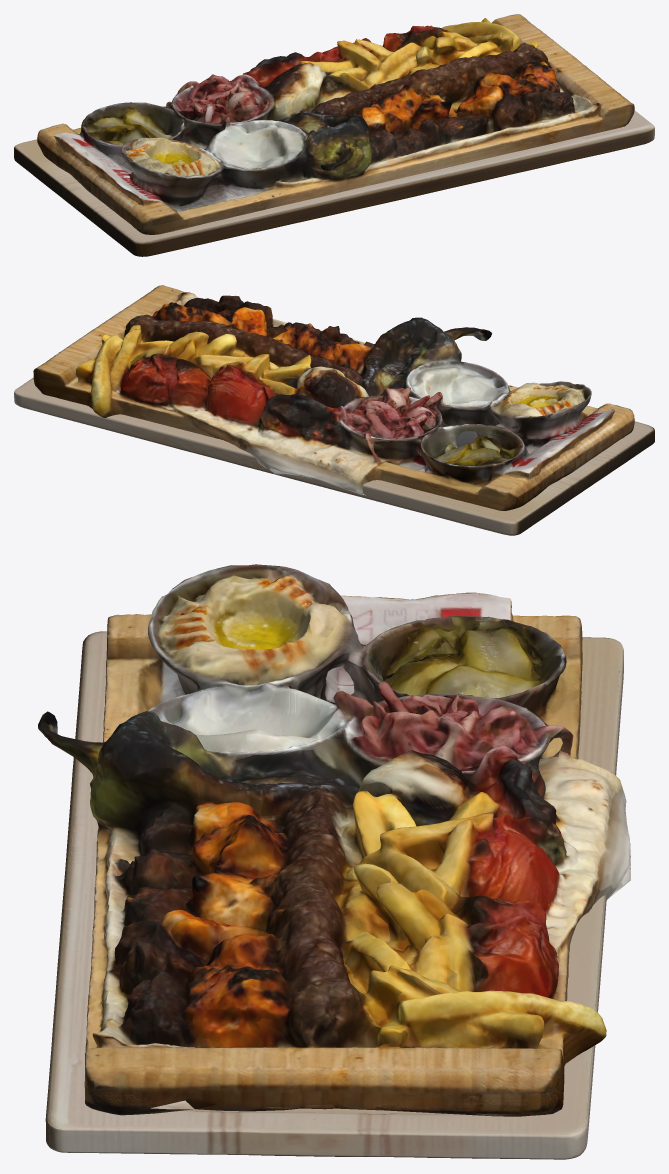
File: 3.kebab.constrant.glb
The picture shows the model from 3 angles, top to bottom: view 1: azimuth 30°, elevation 25°; view 2: azimuth 150°, elevation 25°; view 3: azimuth 270°, elevation 25°; orthographic projection. The views are drawn at different scales.
Visible parts, largest first — view 1: /Root/Scenes/Scene/Object_42/Object_43/Submesh_0, /Root/Scenes/Scene/Object_42/Object_45/Object_46/Submesh_0; view 2: /Root/Scenes/Scene/Object_42/Object_43/Submesh_0, /Root/Scenes/Scene/Object_42/Object_45/Object_46/Submesh_0; view 3: /Root/Scenes/Scene/Object_42/Object_43/Submesh_0, /Root/Scenes/Scene/Object_42/Object_45/Object_46/Submesh_0.
Boxes of the visible parts, x1,y1,x2,y2 form: /Root/Scenes/Scene/Object_42/Object_43/Submesh_0: [37, 14, 634, 234]; /Root/Scenes/Scene/Object_42/Object_45/Object_46/Submesh_0: [14, 110, 654, 256]; /Root/Scenes/Scene/Object_42/Object_43/Submesh_0: [33, 285, 634, 510]; /Root/Scenes/Scene/Object_42/Object_45/Object_46/Submesh_0: [14, 377, 654, 535]; /Root/Scenes/Scene/Object_42/Object_43/Submesh_0: [38, 564, 630, 1116]; /Root/Scenes/Scene/Object_42/Object_45/Object_46/Submesh_0: [45, 631, 623, 1159].
Size of the model in its own units: 0.4056 by 0.0585 by 0.201.
3 materials, 3 textured.
